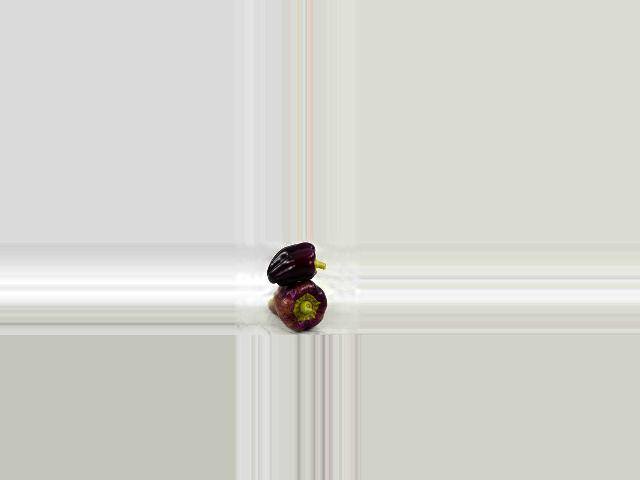bell_pepper: (258, 279, 338, 333)
